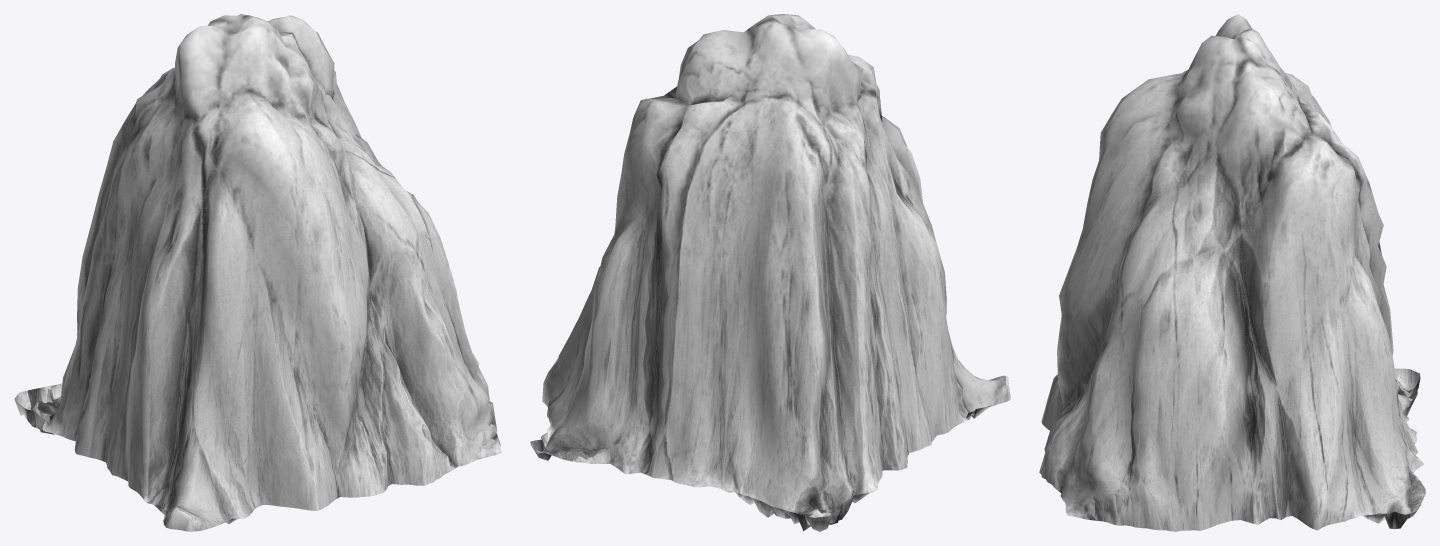
The model's file is BigRock-4.fbx.
3 views of the same model, side by side, from view 1: azimuth 30°, elevation 25°; view 2: azimuth 150°, elevation 25°; view 3: azimuth 270°, elevation 25° (orthographic). The views are drawn at different scales.
Parts seen in each view (by area): view 1: Plane; view 2: Plane; view 3: Plane.
Part boxes in pixels (bbox=[...]): Plane: bbox=[14, 14, 501, 531]; Plane: bbox=[530, 14, 1010, 531]; Plane: bbox=[1039, 14, 1425, 531].
Bounding box in the file's own units: 1438 × 1651 × 1370.
